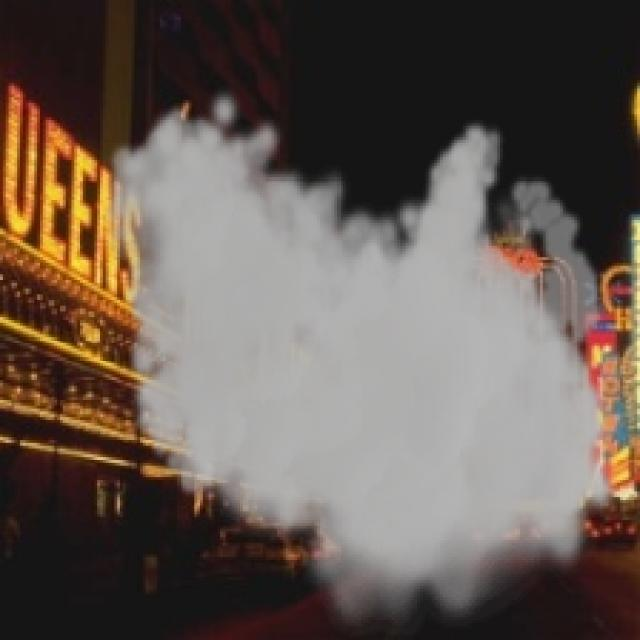smoke: (103, 86, 623, 637)
